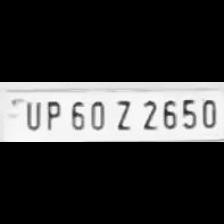0: (86, 97, 108, 131), (198, 96, 220, 128)
2: (136, 96, 158, 130)
5: (179, 96, 197, 130)
6: (65, 96, 85, 132), (158, 96, 178, 130)
P: (42, 97, 62, 131)
U: (20, 97, 42, 131)
Z: (109, 96, 134, 132)
